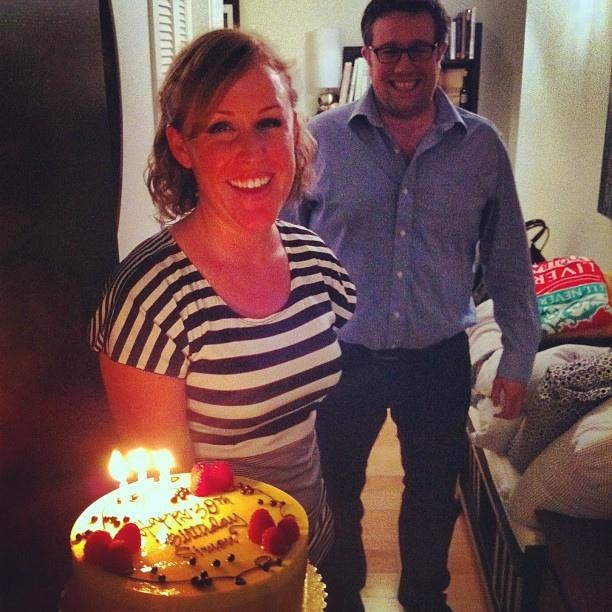person: (291, 1, 541, 612), (94, 28, 348, 602)
